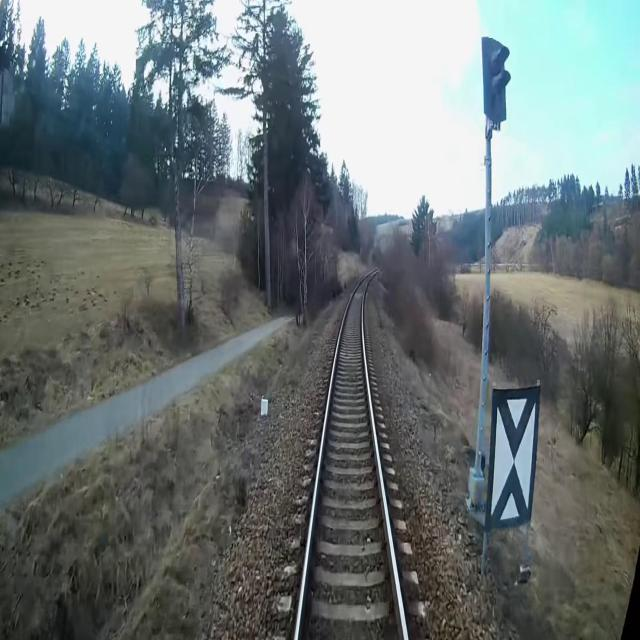rail-track: (298, 271, 403, 639)
